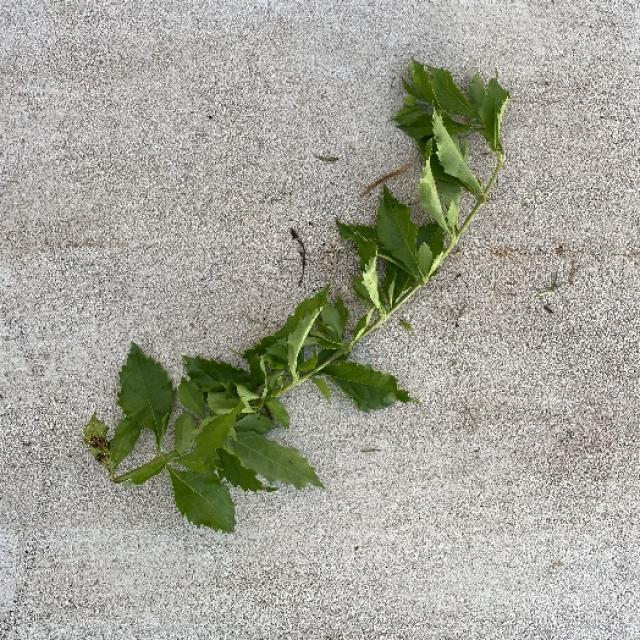organik: (83, 56, 522, 534)
